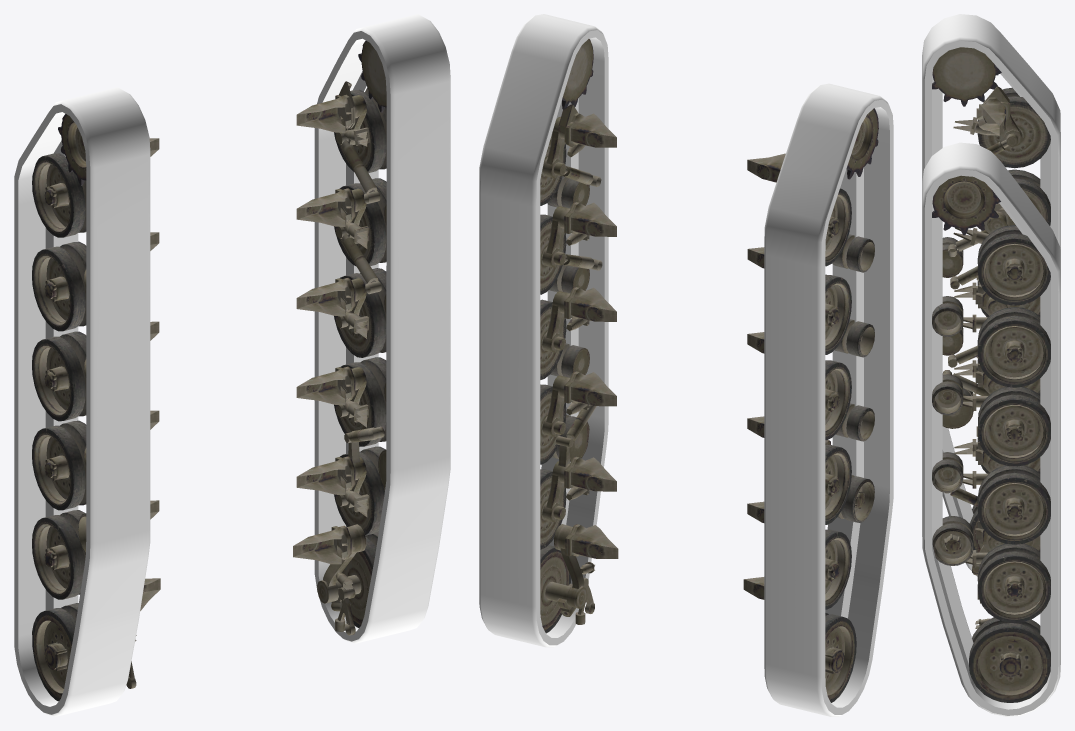
The model's file is Chassis.glb.
3 views of the same model, side by side, from view 1: azimuth 30°, elevation 25°; view 2: azimuth 150°, elevation 25°; view 3: azimuth 270°, elevation 25° (orthographic). The views are drawn at different scales.
Visible parts, largest first — view 1: set_0_group_0, set_1_group_0, set_3_group_0, set_2_group_0; view 2: set_0_group_0, set_1_group_0, set_3_group_0, set_2_group_0; view 3: set_3_group_0, set_1_group_0, set_2_group_0, set_0_group_0.
Part boxes in pixels (x1,y1,x2,y2): set_0_group_0: (14, 87, 150, 716); set_1_group_0: (314, 14, 450, 643); set_3_group_0: (293, 40, 386, 635); set_2_group_0: (32, 114, 160, 701); set_0_group_0: (764, 83, 893, 716); set_1_group_0: (479, 14, 608, 647); set_3_group_0: (540, 39, 618, 633); set_2_group_0: (743, 108, 878, 702); set_3_group_0: (932, 175, 1050, 702); set_1_group_0: (922, 142, 1060, 716); set_2_group_0: (932, 47, 1050, 575); set_0_group_0: (922, 14, 1060, 576).
Size of the model in its own units: 3.21 by 5.34 by 1.22.
4 materials, 2 textured.
